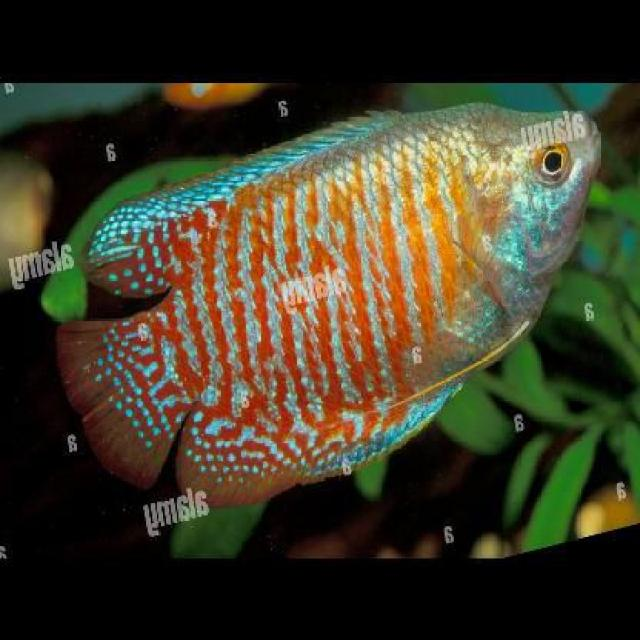Gourami: (52, 101, 594, 498)
